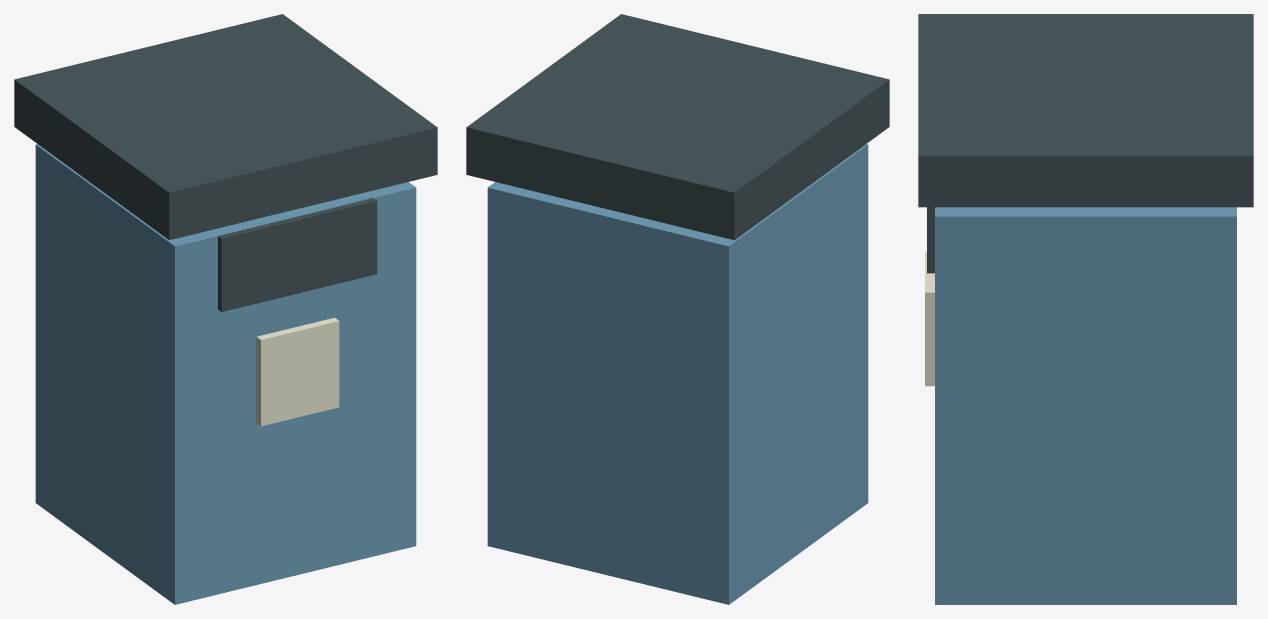
Rendered from bin-litter.glb.
3 renders of one model, left to right at view 1: azimuth 30°, elevation 25°; view 2: azimuth 150°, elevation 25°; view 3: azimuth 270°, elevation 25°, orthographic. The views are drawn at different scales.
Visible parts, largest first — view 1: bin body, lid, recycling badge; view 2: bin body, lid; view 3: bin body, lid, recycling badge.
Part boxes in pixels (x1=…): bin body: x1=35, y1=144, x2=416, y2=604; lid: x1=14, y1=14, x2=437, y2=311; recycling badge: x1=256, y1=317, x2=339, y2=426; bin body: x1=487, y1=144, x2=868, y2=604; lid: x1=466, y1=14, x2=889, y2=240; bin body: x1=935, y1=207, x2=1236, y2=604; lid: x1=918, y1=14, x2=1253, y2=273; recycling badge: x1=925, y1=251, x2=934, y2=386.
Size of the model in its own units: 0.65 by 0.975 by 0.65.
